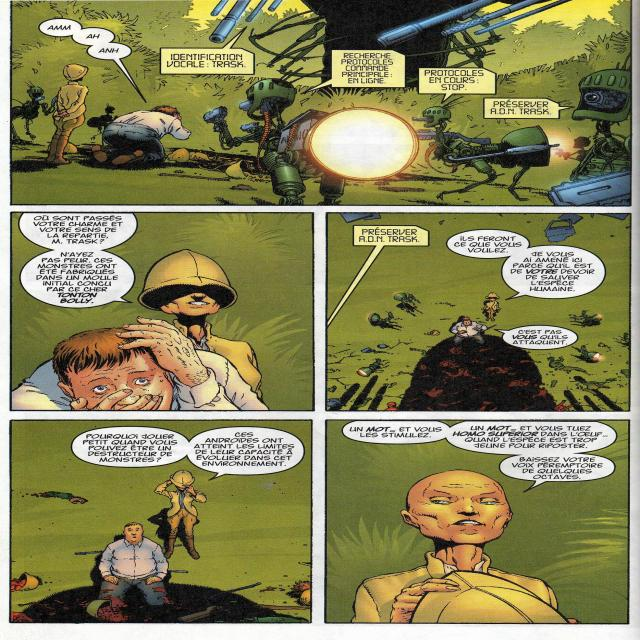comic_panel: (9, 0, 632, 208), (324, 418, 630, 624), (8, 420, 314, 624), (10, 210, 316, 412), (324, 211, 630, 411)
